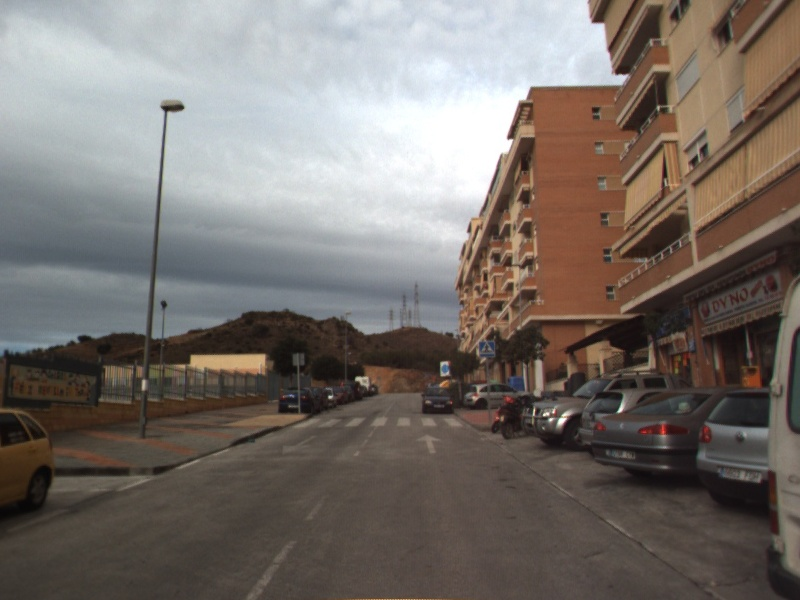STRAIGHT: (414, 432, 444, 455)
